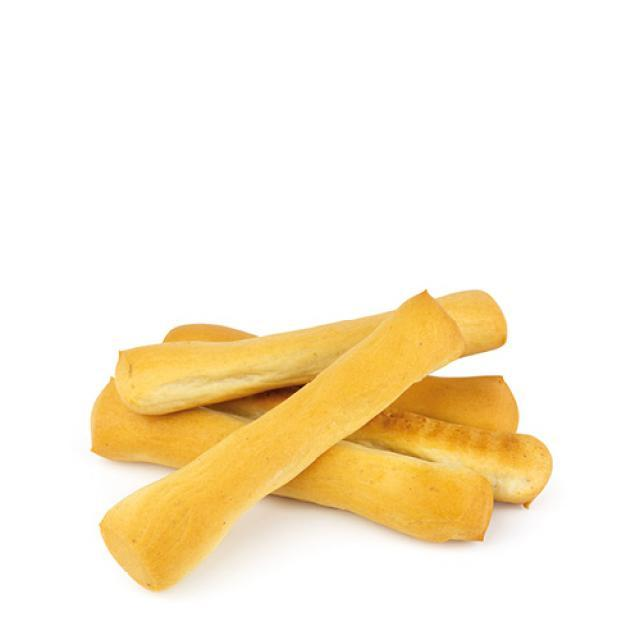Grissini: (90, 288, 560, 585)
